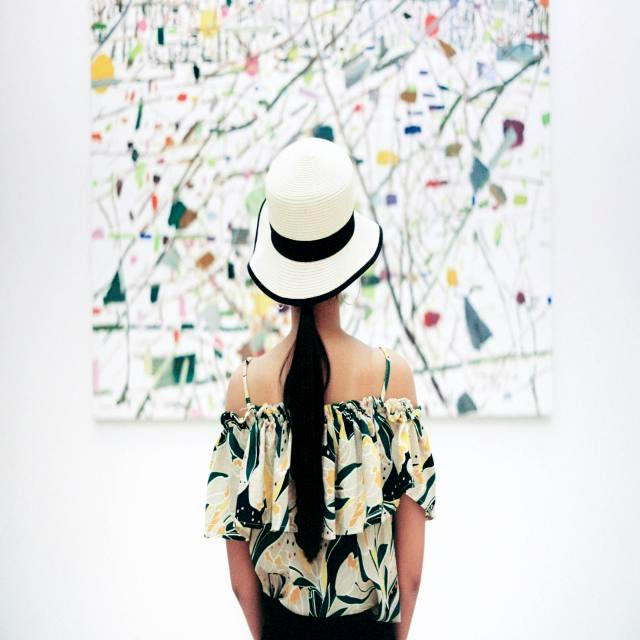no_hard_hat: (247, 138, 383, 306)
person: (205, 139, 435, 640)
